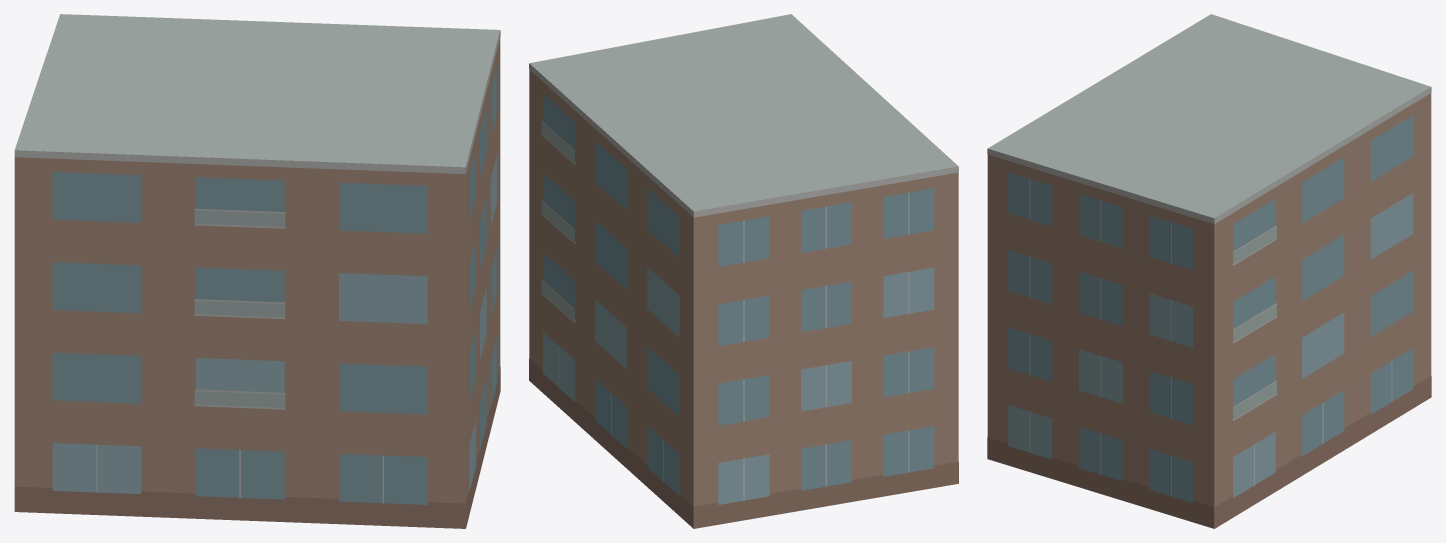
File: survey-upis-32816910.glb
The picture shows the model from 3 angles, left to right: view 1: azimuth 30°, elevation 25°; view 2: azimuth 150°, elevation 25°; view 3: azimuth 270°, elevation 25°; orthographic projection. The views are drawn at different scales.
Parts seen in each view (by area): view 1: survey-upis-32816910.tmp; view 2: survey-upis-32816910.tmp; view 3: survey-upis-32816910.tmp.
Boxes of the visible parts, x1,y1,x2,y2 form: survey-upis-32816910.tmp: (14,14,500,528); survey-upis-32816910.tmp: (529,14,958,528); survey-upis-32816910.tmp: (987,14,1431,528).
Bounding box in the file's own units: 18.08 × 12.8 × 16.6.
